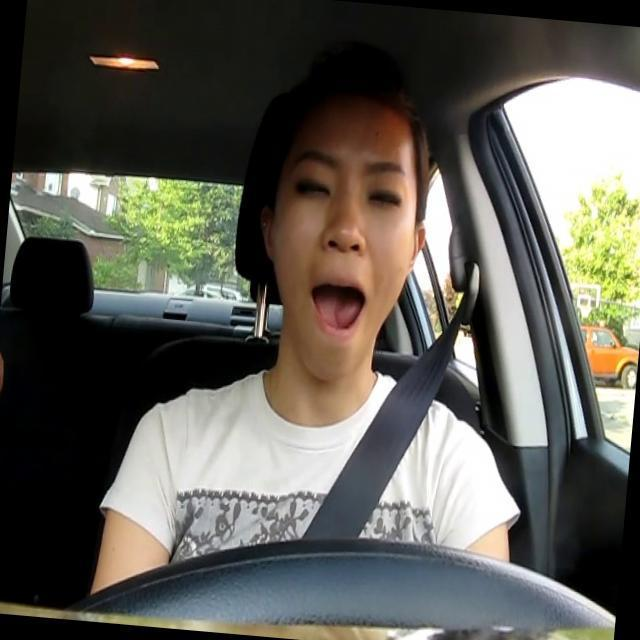open-mouth: (306, 276, 369, 341)
